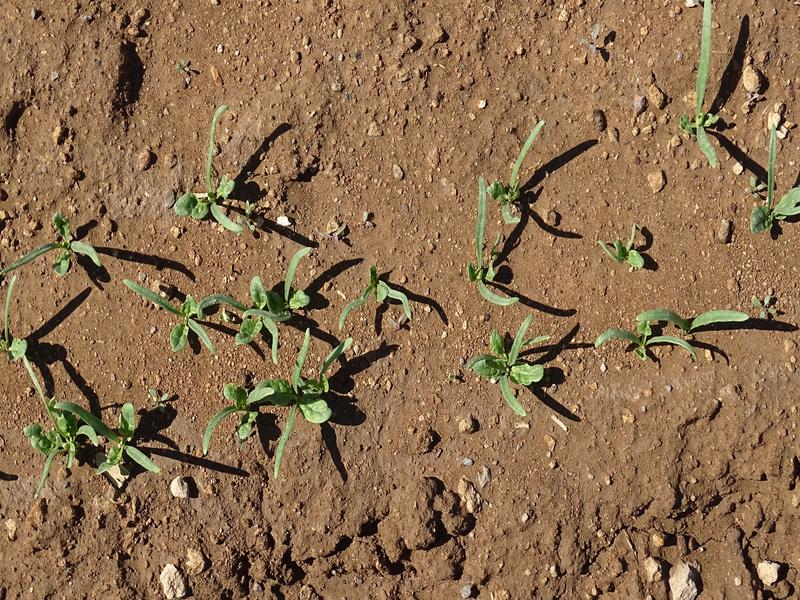Espinaca: (5, 171, 425, 504), (457, 129, 563, 415), (594, 295, 746, 384), (683, 29, 731, 166), (762, 134, 800, 235), (605, 223, 647, 273)
